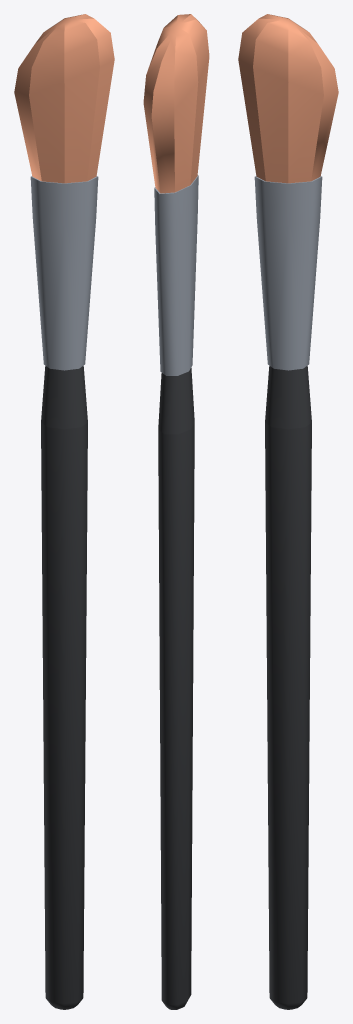
The model's file is scene_PMXKSgQsB9.glb.
3 views of the same model, side by side, from view 1: azimuth 90°, elevation 25°; view 2: azimuth 150°, elevation 25°; view 3: azimuth 270°, elevation 25° (orthographic).
Visible parts, largest first — view 1: brush_angle_shader.001; view 2: brush_angle_shader.001; view 3: brush_angle_shader.001.
Part boxes in pixels (box(x1,y1,x2,y2)): brush_angle_shader.001: box(14, 14, 114, 1009); brush_angle_shader.001: box(143, 14, 209, 1009); brush_angle_shader.001: box(238, 14, 338, 1009).
Size of the model in its own units: 1.21 by 26.22 by 2.41.
1 material, 1 textured.
